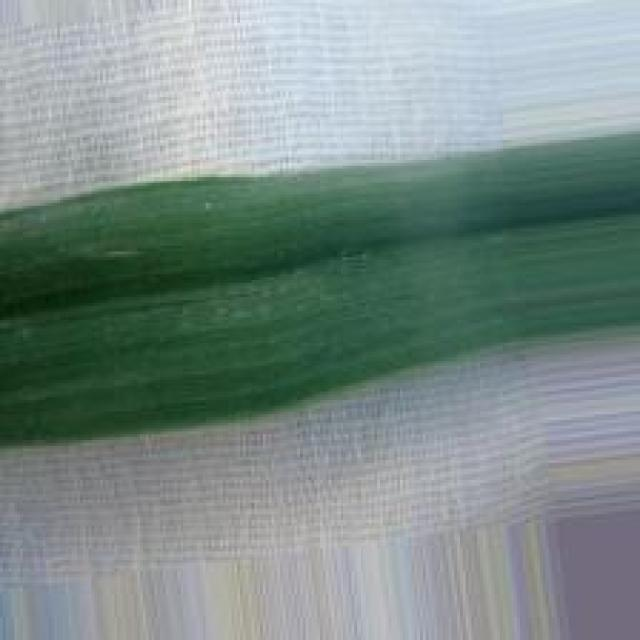Healthy: (0, 128, 640, 450)
